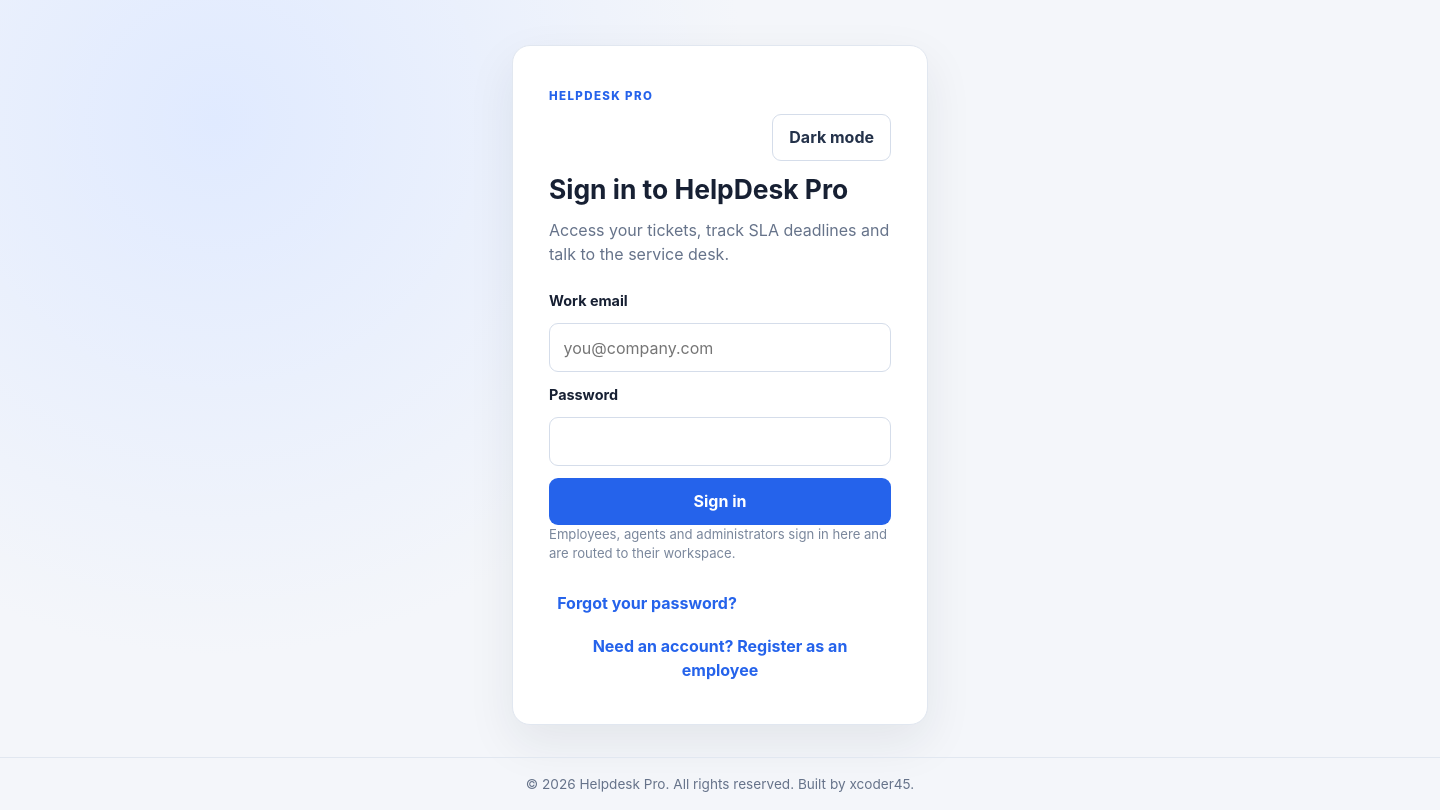
employee portal › signs in with credentials and opens the portal
Type "employee@helpdesk.local" into the field labelled "Work email". click: (720,348)
box: top-left (549, 323), bottom-right (891, 372)
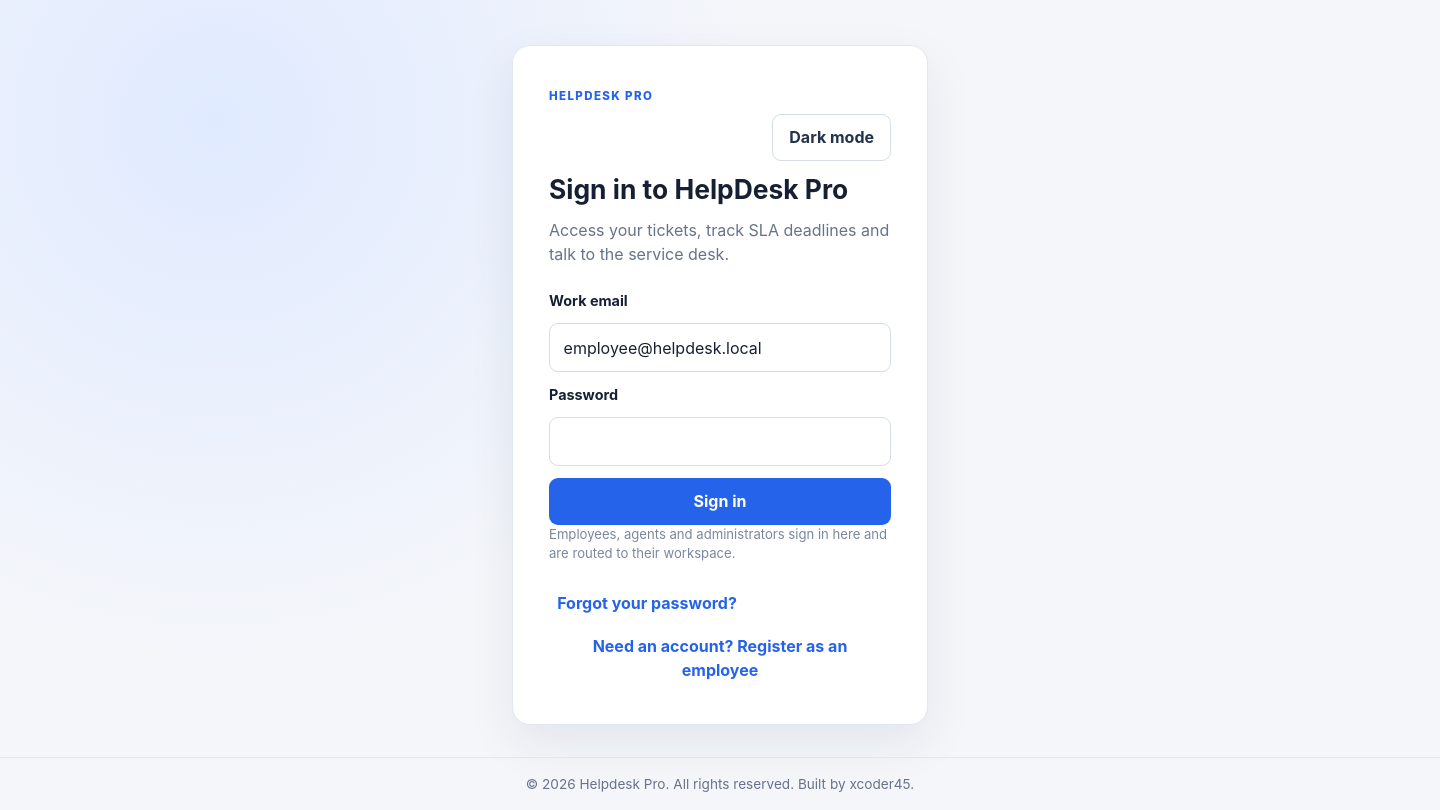
Type "ChangeMe123!" into the password field labelled "Password". click: (720,442)
box: top-left (549, 417), bottom-right (891, 466)
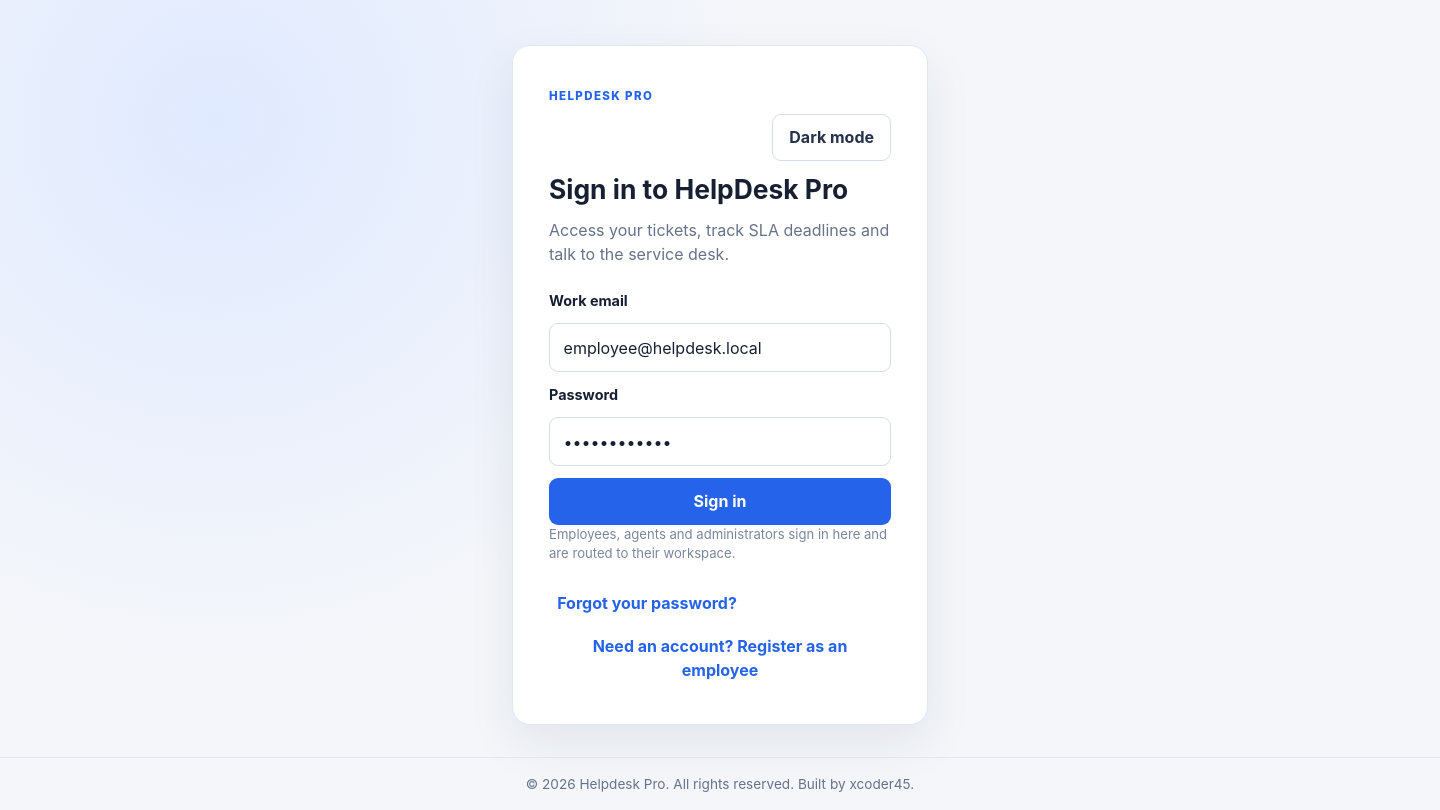
Click the button "Sign in". click: (720,501)
box: top-left (549, 478), bottom-right (891, 525)
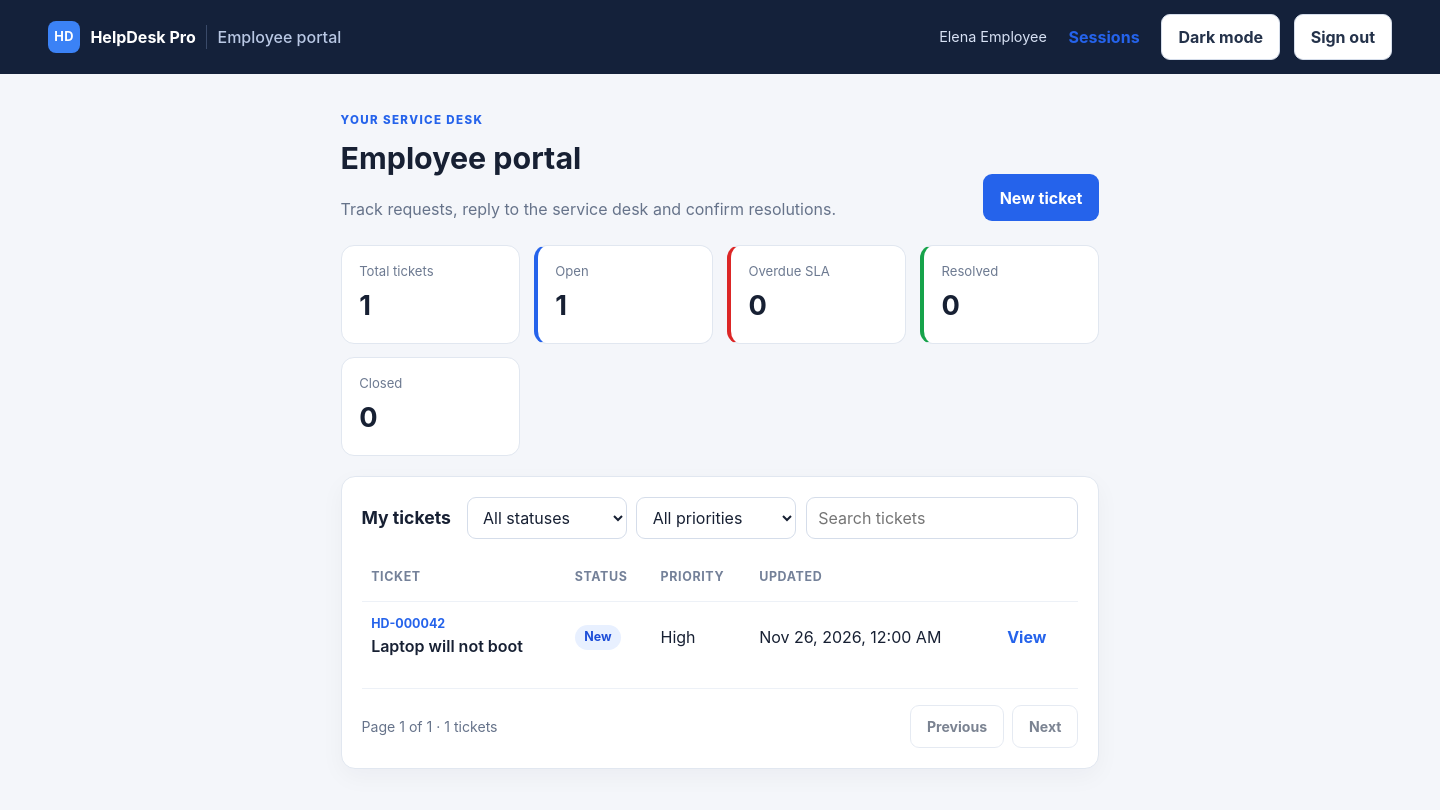
expect the heading "Employee portal" is shown: met, box top-left (340, 140), bottom-right (581, 176)
